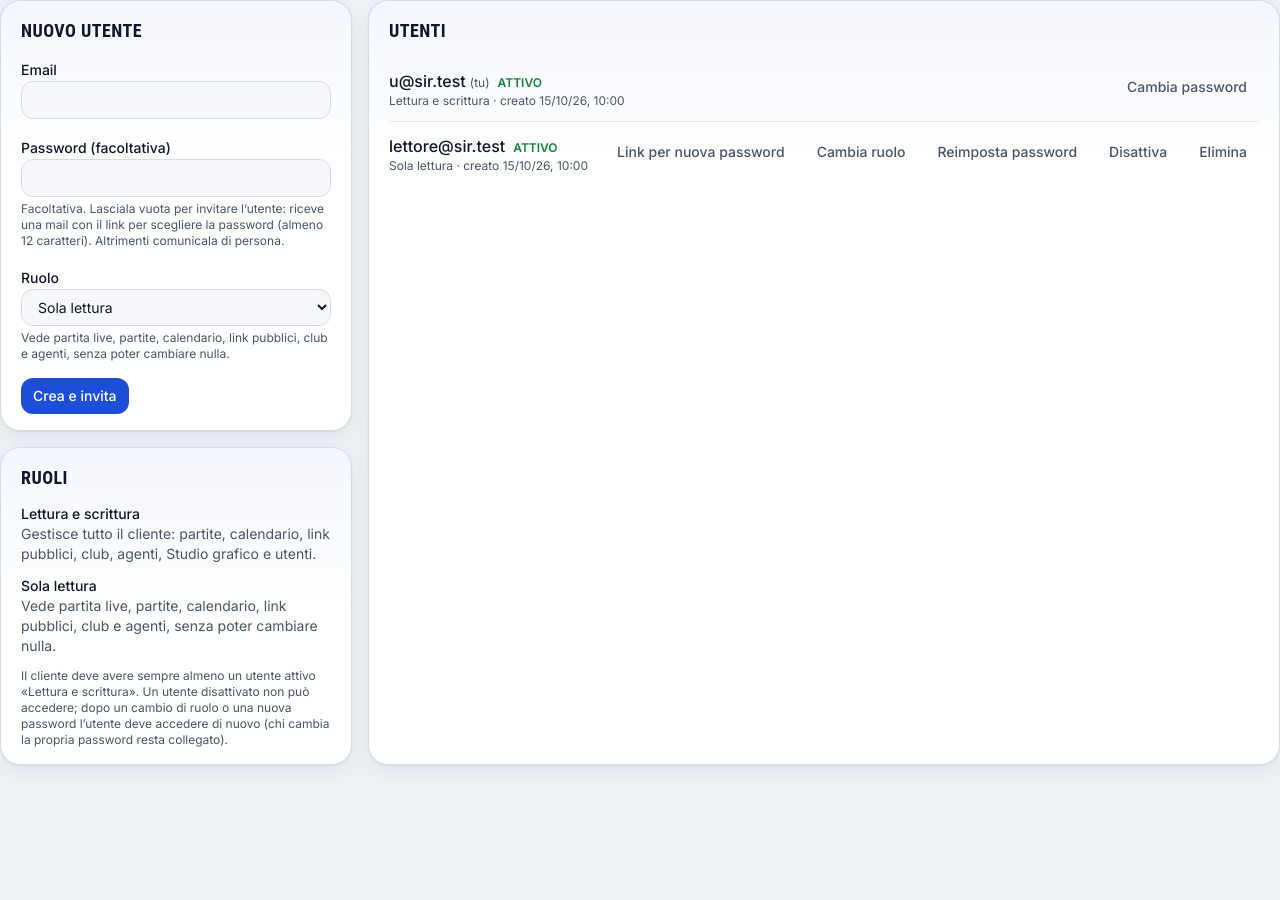
it: «Utenti» page › changes the role of a user
Click the button "Cambia ruolo": coordinates (861, 152) [805,134,917,170]
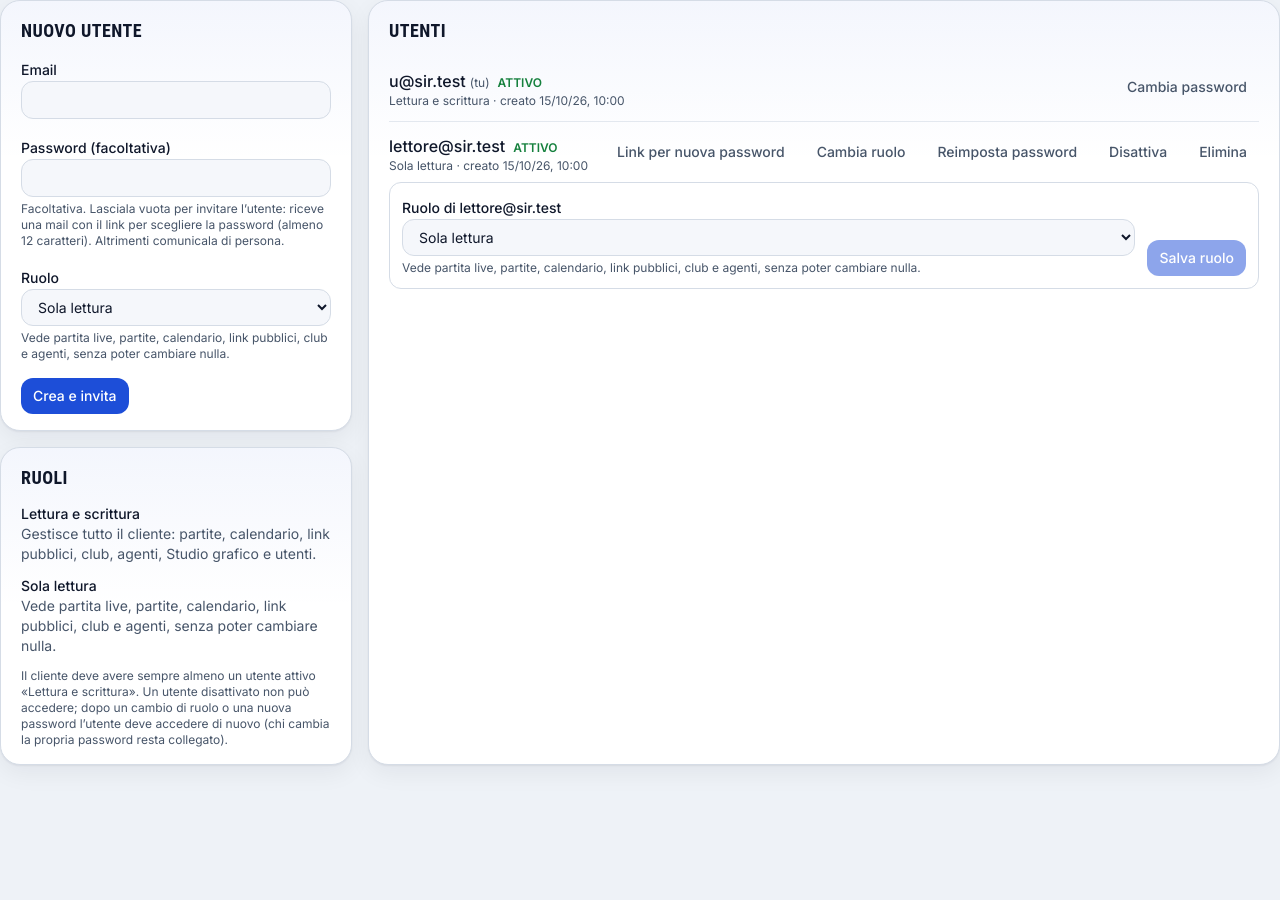
Select "Lettura e scrittura" in the dropdown labelled "Ruolo di lettore@sir.test": coordinates (769, 238) [402,219,1136,256]
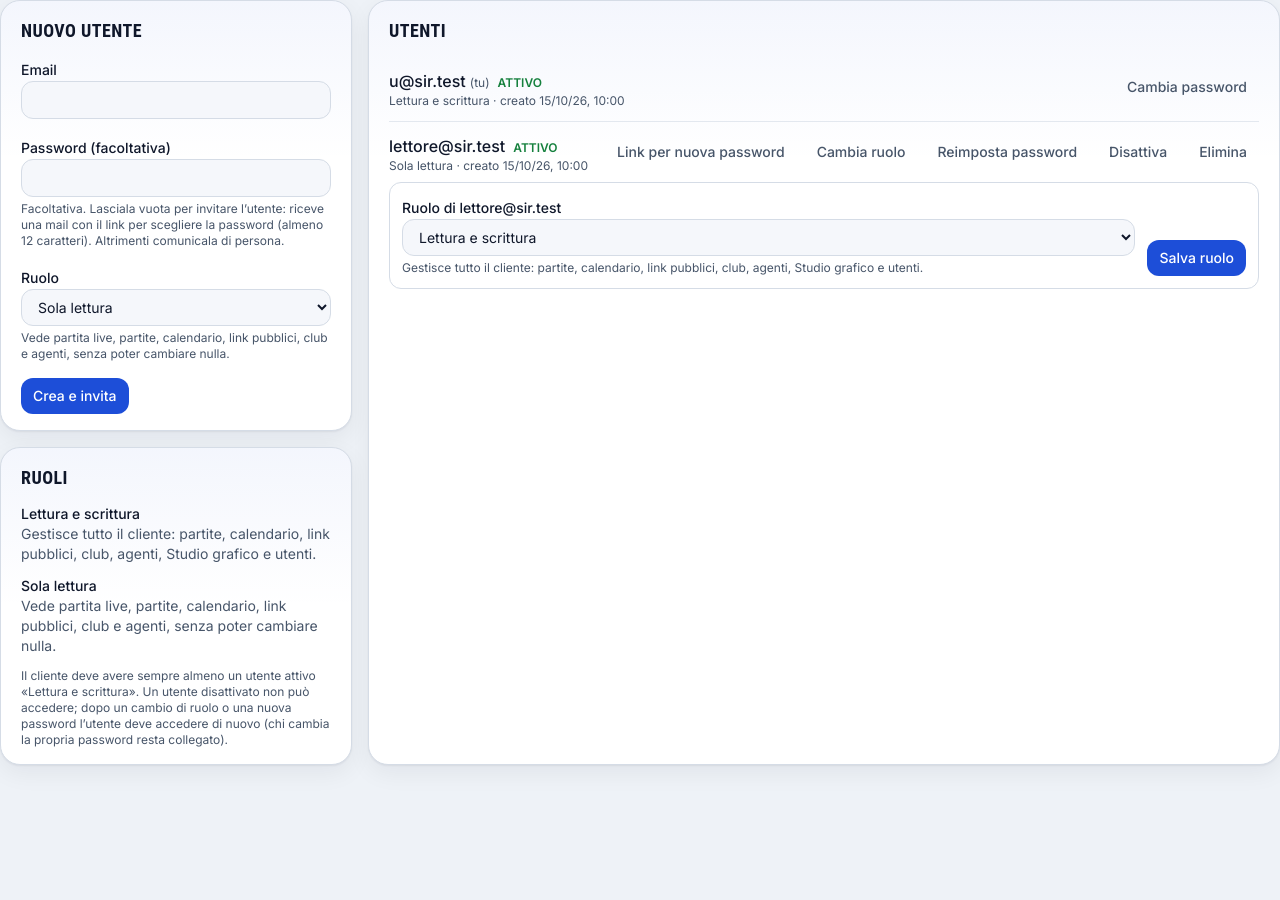
Click the button "Salva ruolo": coordinates (1197, 258) [1148,240,1246,276]
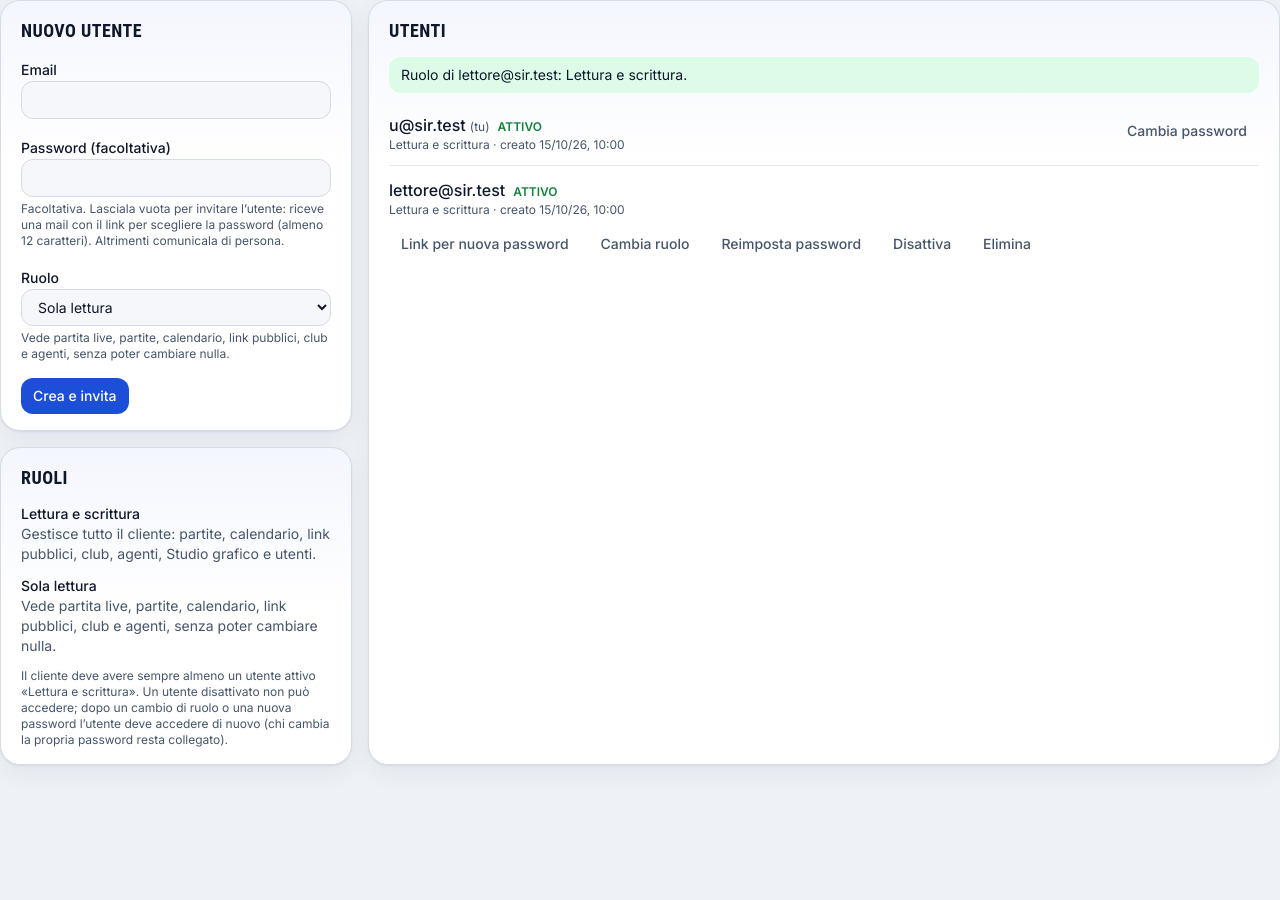
Expected: the text "Ruolo di lettore@sir.test: Lettura e scrittura." is shown, [389,57,1259,93]
Expected: the 2nd text "Lettura e scrittura · creato 15/10/26, 10:00" is shown, [389,202,625,218]
